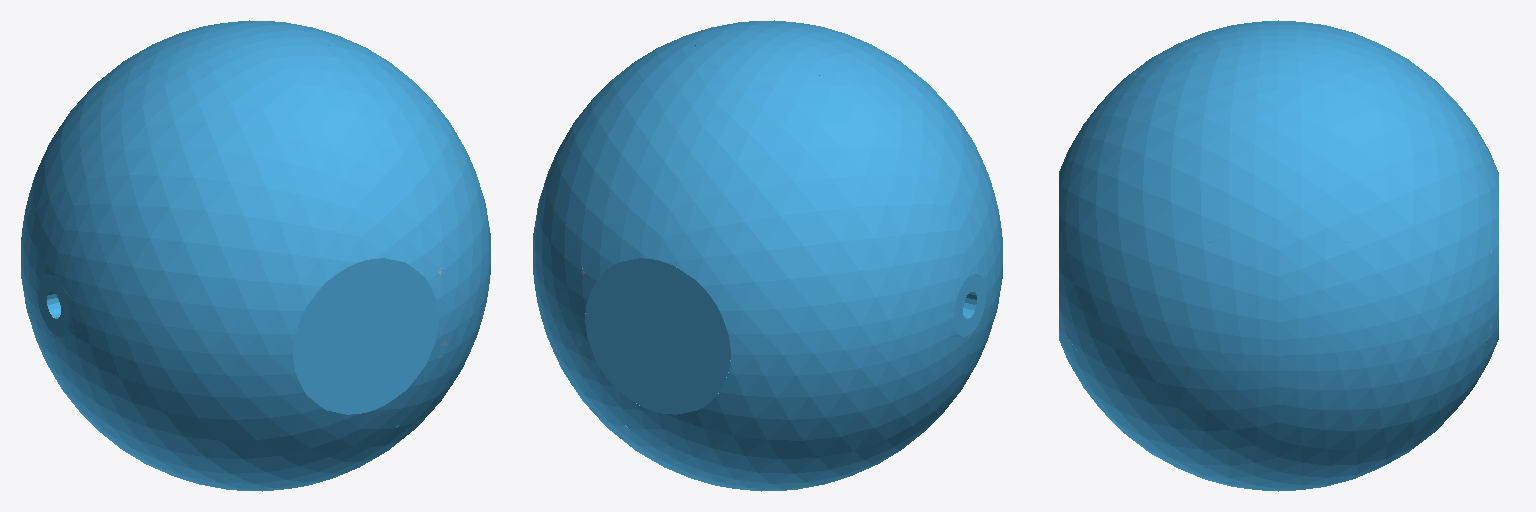
The robot description file, URDF, robot "ib2":
<?xml version="1.0"?>
<robot name="ib2">

  <link name="base"/>

  <link name="body">
    <visual>
      <geometry>
        <mesh filename="package://int-ball2_control/description/media/meshes/int-ball2/Int-Ball2_20241105_v2.dae" />
      </geometry>
      <origin rpy="0 0 0" xyz="0 0 0" />
    </visual>
    <collision>
      <geometry>
        <mesh filename="package://int-ball2_control/description/media/meshes/int-ball2/Int-Ball2_20241105_v2.dae" />
      </geometry>
    </collision>
    <inertial>
      <mass value="3.324" />
      <inertia ixx="0.01400" ixy="0.00003978" ixz="-0.00003857" iyy="0.01434" iyz="0.00001885" izz="0.01324" />
    </inertial>
  </link>

  <joint name="joint" type="fixed">
    <parent link="base" />
    <child link="body" />
  </joint>

  <joint name="cameraF_joint" type="fixed">
    <parent link="body"/>
    <child  link="cameraF_link"/>
    <origin xyz="0.14 0.0 0.0 " rpy="0 0 0"/>
  </joint>

  <joint name="cameraL_joint" type="fixed">
    <parent link="body"/>
    <child  link="cameraL_link"/>
    <origin xyz=" 0.025 0.14 0.0 " rpy="0 0 1.570796326794897"/>
  </joint>

  <joint name="cameraR_joint" type="fixed">
    <parent link="body"/>
    <child  link="cameraR_link"/>
    <origin xyz=" -0.025 0.14 0.0 " rpy="0 0 1.570796326794897"/>
  </joint>

  <joint name="imu_joint" type="fixed">
    <parent link="body"/>
    <child  link="imu_link"/>
    <origin xyz=" 0.0 0.0 0.0 " rpy="0 0 0"/>
  </joint>

  <gazebo>
    <plugin name="thr"  filename="libthr.so"  />
  </gazebo>

  <link name="imu_link"/>
  <gazebo reference="imu_link">
    <gravity>true</gravity>
    <sensor name="imu_sensor" type="imu">
      <always_on>true</always_on>
      <update_rate>100</update_rate>
      <visualize>true</visualize>
      <topic>__default_topic__</topic>
      <plugin filename="libib2_imu_sensor_plugin.so" name="ib2_imu_sensor_plugin">
        <topicName>imu</topicName>
        <bodyName>imu_link</bodyName>
        <updateRateHZ>10.0</updateRateHZ>
        <gaussianNoise>0.0</gaussianNoise>
        <xyzOffset>0 0 0</xyzOffset>
        <rpyOffset>0 0 0</rpyOffset>
        <frameName>imu_link</frameName>
        <initialOrientationAsReference>false</initialOrientationAsReference>
      </plugin>
      <pose>0 0 0 0 0 0</pose>
    </sensor>
  </gazebo>

  <link name="cameraF_link"/>
  <gazebo reference="cameraF_link">
    <sensor type="camera" name="cameraF">
      <update_rate>30.0</update_rate>
      <camera name="head">
        <horizontal_fov>1.3962634</horizontal_fov>
        <image>
          <width>800</width>
          <height>800</height>
          <format>R8G8B8</format>
        </image>
        <clip>
          <near>0.02</near>
          <far>300</far>
        </clip>
        <noise>
          <type>gaussian</type>
          <mean>0.0</mean>
          <stddev>0.007</stddev>
        </noise>
      </camera>
      <plugin name="camera_controller" filename="libgazebo_ros_camera.so">
        <alwaysOn>true</alwaysOn>
        <updateRate>0.0</updateRate>
        <cameraName>camera_front</cameraName>
        <imageTopicName>/camera_main/image_raw</imageTopicName>
        <cameraInfoTopicName>/camera_main/camera_info</cameraInfoTopicName>
        <frameName>cameraF_link</frameName>
        <hackBaseline>0.07</hackBaseline>
        <distortionK1>0.0</distortionK1>
        <distortionK2>0.0</distortionK2>
        <distortionK3>0.0</distortionK3>
        <distortionT1>0.0</distortionT1>
        <distortionT2>0.0</distortionT2>
      </plugin>
    </sensor>
  </gazebo>

  <link name="cameraL_link"/>
  <gazebo reference="cameraL_link">
    <sensor type="camera" name="cameraL">
      <update_rate>30.0</update_rate>
      <camera name="head">
        <horizontal_fov>1.3962634</horizontal_fov>
        <image>
          <width>800</width>
          <height>800</height>
          <format>R8G8B8</format>
        </image>
        <clip>
          <near>0.02</near>
          <far>300</far>
        </clip>
        <noise>
          <type>gaussian</type>
          <mean>0.0</mean>
          <stddev>0.007</stddev>
        </noise>
      </camera>
      <plugin name="camera_controller" filename="libgazebo_ros_camera.so">
        <alwaysOn>true</alwaysOn>
        <updateRate>0.0</updateRate>
        <cameraName>camera_left</cameraName>
        <imageTopicName>/camera_left/image_raw</imageTopicName>
        <cameraInfoTopicName>/camera_left/camera_info</cameraInfoTopicName>
        <frameName>cameraL_link</frameName>
        <hackBaseline>0.07</hackBaseline>
        <distortionK1>0.0</distortionK1>
        <distortionK2>0.0</distortionK2>
        <distortionK3>0.0</distortionK3>
        <distortionT1>0.0</distortionT1>
        <distortionT2>0.0</distortionT2>
      </plugin>
    </sensor>
  </gazebo>

  <link name="cameraR_link"/>
  <gazebo reference="cameraR_link">
    <sensor type="camera" name="cameraR">
      <update_rate>30.0</update_rate>
      <camera name="head">
        <horizontal_fov>1.3962634</horizontal_fov>
        <image>
          <width>800</width>
          <height>800</height>
          <format>R8G8B8</format>
        </image>
        <clip>
          <near>0.02</near>
          <far>300</far>
        </clip>
        <noise>
          <type>gaussian</type>
          <mean>0.0</mean>
          <stddev>0.007</stddev>
        </noise>
      </camera>
      <plugin name="camera_controller" filename="libgazebo_ros_camera.so">
        <alwaysOn>true</alwaysOn>
        <updateRate>0.0</updateRate>
        <cameraName>camera_right</cameraName>
        <imageTopicName>/camera_right/image_raw</imageTopicName>
        <cameraInfoTopicName>/camera_right/camera_info</cameraInfoTopicName>
        <frameName>cameraR_link</frameName>
        <hackBaseline>0.07</hackBaseline>
        <distortionK1>0.0</distortionK1>
        <distortionK2>0.0</distortionK2>
        <distortionK3>0.0</distortionK3>
        <distortionT1>0.0</distortionT1>
        <distortionT2>0.0</distortionT2>
      </plugin>
    </sensor>
  </gazebo>

  <gazebo>
    <plugin name="ib2_ground_truth" filename="libgazebo_ros_p3d.so">
      <frameName>world</frameName>
      <bodyName>body</bodyName>
      <topicName>/ib2_tracker</topicName>
      <updateRate>50.0</updateRate>
    </plugin>
  </gazebo>

</robot>

--- Render facts (derived) ---
3 views of the same robot in one strip: view 1: azimuth 30°, elevation 25°; view 2: azimuth 150°, elevation 25°; view 3: azimuth 270°, elevation 25° (orthographic).
Model ib2 with 6 links and 5 joints (5 fixed), rooted at base, posed every joint at zero.
Links seen in each view (by area): view 1: body; view 2: body; view 3: body.
Link boxes in pixels (<box>): body: <box>21,20,490,491</box>; body: <box>533,20,1002,491</box>; body: <box>1059,20,1498,491</box>.
Size in the robot's own frame: 0.199 by 0.1876 by 0.2 metres.
1 mesh visuals loaded from 1 distinct referenced files (1 Collada DAE).